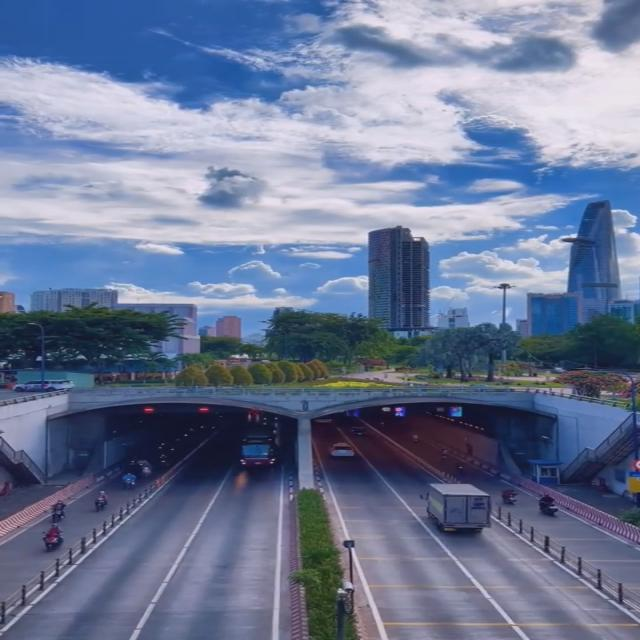car: (329, 443, 356, 457)
motorbike: (42, 524, 66, 552), (540, 492, 558, 517), (50, 500, 66, 524), (94, 490, 110, 512), (500, 489, 518, 505), (122, 472, 136, 488)
truck: (426, 482, 489, 533)
